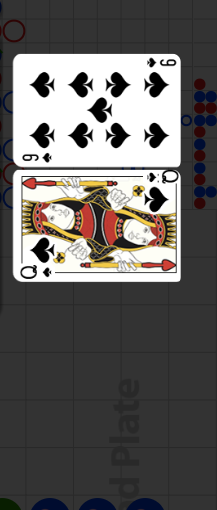9S: (19, 265, 54, 282), (144, 56, 177, 69)
